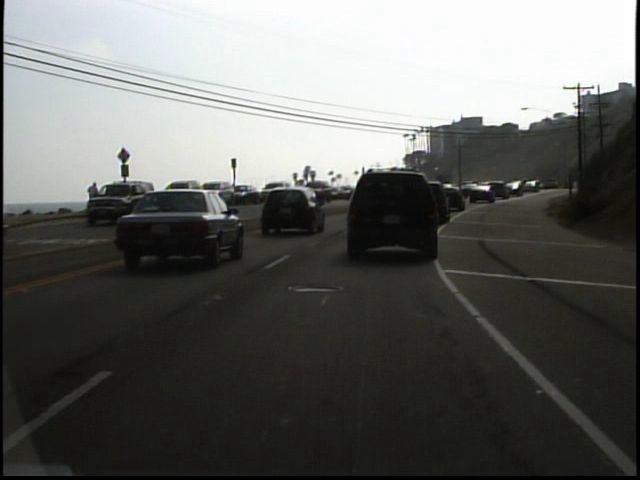person: (85, 178, 103, 218)
